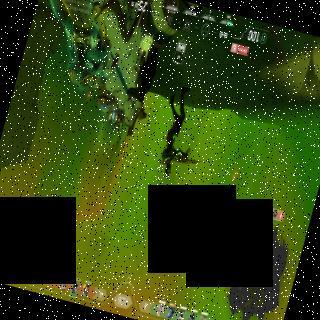ENEMY-BODY: (147, 80, 195, 180)
ENEMY-HEAD: (162, 162, 172, 177)
